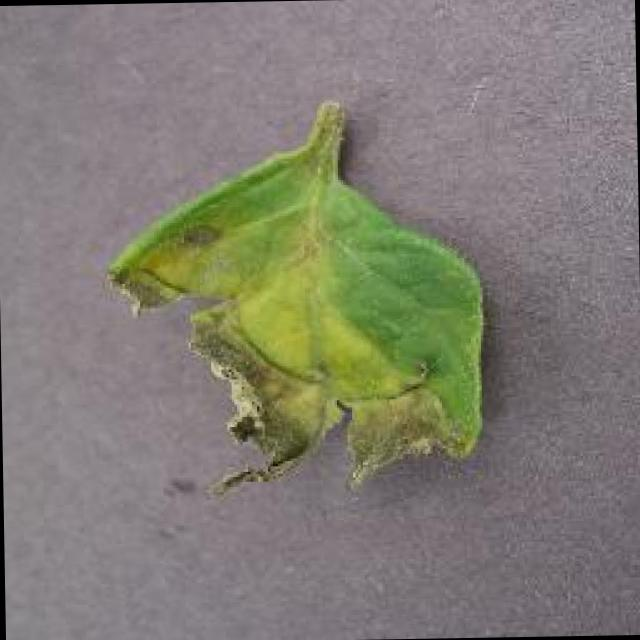Tomato_Late_Blight: (100, 216, 492, 494)
